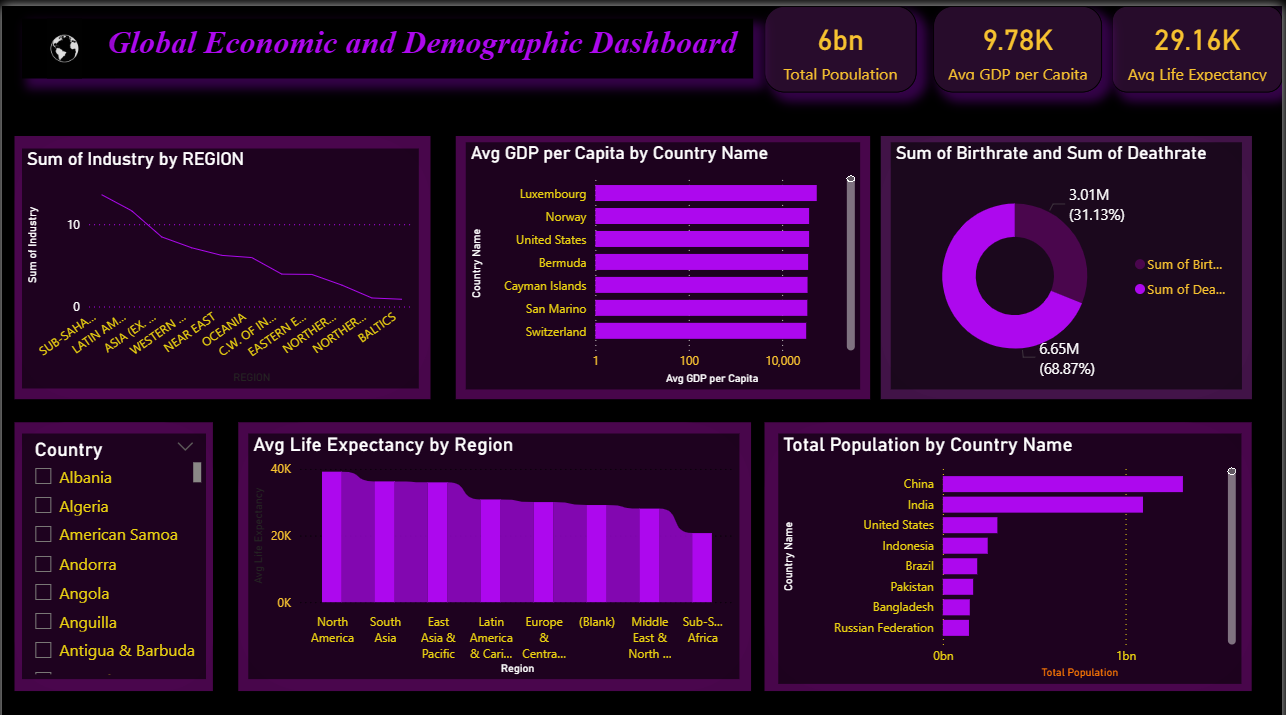

What the dashboard file says about the page in this screenshot:
{"tool":"powerbi","page":{"name":"Page 1","canvas":[1280,720],"ordinal":0},"visuals":[{"type":"card","fields":{"Values":["GDP by Country_1961-1999.Total Population"]},"box":[763,0,152,86],"z":0},{"type":"card","fields":{"Values":["GDP by Country_1961-1999.Avg Life Expectancy"]},"box":[1110,0,170,86],"z":1000},{"type":"card","fields":{"Values":["GDP by Country_1961-1999.Avg GDP per Capita"]},"box":[931,0,169,86],"z":2000},{"type":"textbox","box":[20,13,731,60],"z":3000},{"type":"shape","box":[12.9,130,415.7,262.9],"z":4000},{"type":"shape","box":[454.3,130,414.3,262.9],"z":5000},{"type":"clusteredBarChart","fields":{"Category":["PopulationPerCountry.Country Name"],"Y":["GDP by Country_1961-1999.Avg GDP per Capita"]},"box":[464.3,135.7,394.3,247.1],"z":6000},{"type":"shape","box":[878.6,130,371.4,262.9],"z":7000},{"type":"shape","box":[12.9,415.7,198.6,268.6],"z":8000},{"type":"slicer","fields":{"Values":["countries countries_world.Country"]},"box":[20,427.1,184.3,245.7],"z":9000},{"type":"shape","box":[235.7,415.7,512.9,268.6],"z":10000},{"type":"ribbonChart","fields":{"Y":["GDP by Country_1961-1999.Avg Life Expectancy"],"Category":["MetaData Country.Region"]},"box":[245.7,427.1,491.4,245.7],"z":11000},{"type":"donutChart","fields":{"Y":["Sum(countries of the world.Birthrate)","Sum(countries of the world.Deathrate)"]},"box":[888.6,135.7,351.4,247.1],"z":12000},{"type":"shape","box":[762.9,415.7,487.1,268.6],"z":13000},{"type":"lineChart","fields":{"Category":["countries of the world.REGION"],"Y":["Sum(countries of the world.Industry)"]},"box":[20,142.9,397.1,240],"z":14000},{"type":"image","box":[12.9,12.9,100,60],"z":15000},{"type":"clusteredBarChart","fields":{"Y":["GDP by Country_1961-1999.Total Population"],"Category":["GDP by Country_2000-2016.Country Name"]},"box":[775.7,427.1,462.9,250],"z":16000}]}

Visuals, with their boxes in screenshot pixels (x1, y1, x2, y2), scaled from the page's 1280x720 canvas onto the 1286x715 screenshot:
card - GDP by Country_1961-1999.Total Population: <region>767, 0, 919, 85</region>
card - GDP by Country_1961-1999.Avg Life Expectancy: <region>1115, 0, 1285, 85</region>
card - GDP by Country_1961-1999.Avg GDP per Capita: <region>935, 0, 1105, 85</region>
textbox: <region>20, 13, 755, 72</region>
shape: <region>13, 129, 431, 390</region>
shape: <region>456, 129, 873, 390</region>
clusteredBarChart - PopulationPerCountry.Country Name x GDP by Country_1961-1999.Avg GDP per Capita: <region>466, 135, 863, 380</region>
shape: <region>883, 129, 1256, 390</region>
shape: <region>13, 413, 212, 680</region>
slicer - countries countries_world.Country: <region>20, 424, 205, 668</region>
shape: <region>237, 413, 752, 680</region>
ribbonChart - GDP by Country_1961-1999.Avg Life Expectancy x MetaData Country.Region: <region>247, 424, 741, 668</region>
donutChart - Sum(countries of the world.Birthrate) x Sum(countries of the world.Deathrate): <region>893, 135, 1246, 380</region>
shape: <region>766, 413, 1256, 680</region>
lineChart - countries of the world.REGION x Sum(countries of the world.Industry): <region>20, 142, 419, 380</region>
image: <region>13, 13, 113, 72</region>
clusteredBarChart - GDP by Country_1961-1999.Total Population x GDP by Country_2000-2016.Country Name: <region>779, 424, 1244, 672</region>
